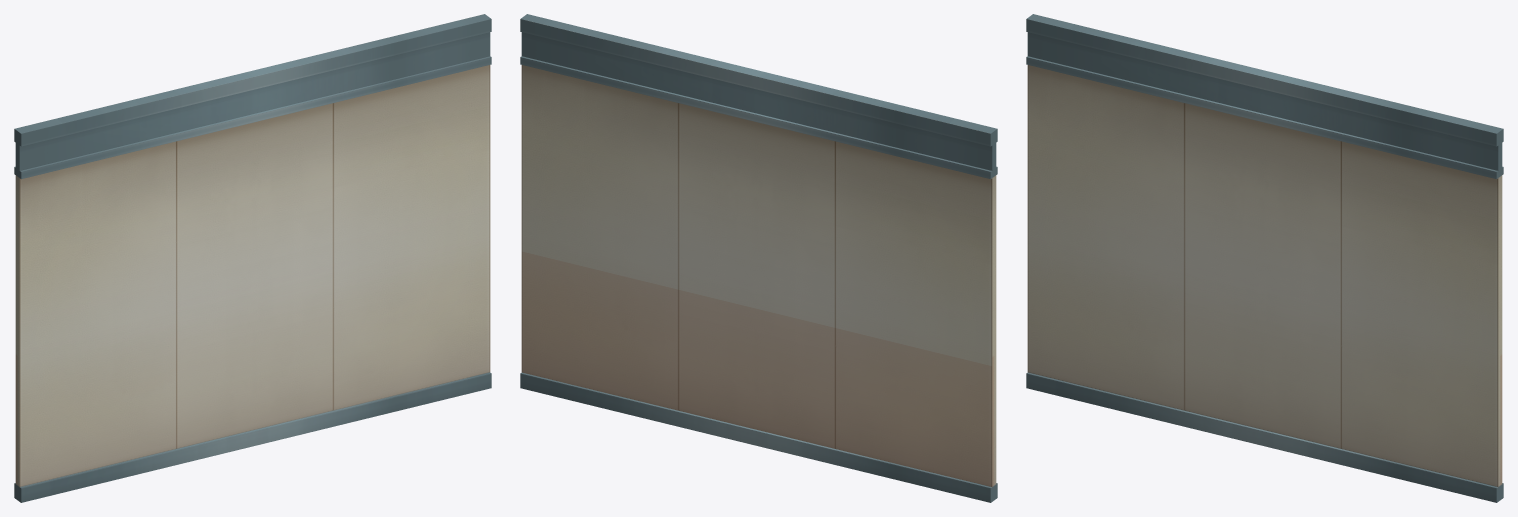
File: SHW_Wall_01_01.fbx
3 views of the same model, side by side, from view 1: azimuth 30°, elevation 25°; view 2: azimuth 150°, elevation 25°; view 3: azimuth 330°, elevation 25° (orthographic).
Parts seen in each view (by area): view 1: shw_wall_01_01; view 2: shw_wall_01_01; view 3: shw_wall_01_01.
Part boxes in pixels (x1,y1,x2,y2): shw_wall_01_01: (14, 14, 491, 502); shw_wall_01_01: (520, 14, 997, 502); shw_wall_01_01: (1026, 14, 1503, 502).
Bounding box in the file's own units: 400 × 300 × 10.
